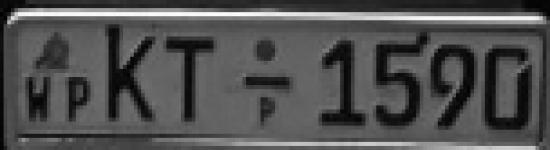-: (240, 69, 295, 98)
0: (483, 34, 536, 136)
1: (309, 33, 370, 133)
5: (369, 32, 429, 134)
9: (429, 36, 481, 136)
K: (102, 21, 160, 129)
P: (62, 73, 94, 126)
T: (158, 27, 220, 128)
W: (21, 70, 57, 127)
